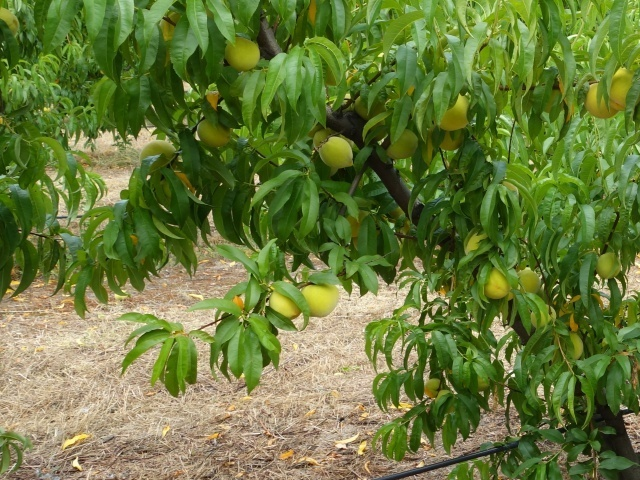peach: (576, 77, 620, 125), (295, 279, 344, 320), (219, 33, 264, 74), (262, 287, 309, 326), (435, 89, 475, 134), (603, 64, 639, 113), (136, 137, 180, 173), (316, 135, 357, 172), (195, 114, 234, 151), (380, 127, 422, 161), (459, 219, 491, 258), (479, 264, 510, 303), (429, 124, 469, 153), (512, 263, 545, 295), (594, 250, 623, 282), (565, 329, 587, 364), (529, 307, 558, 331), (422, 375, 445, 402)
